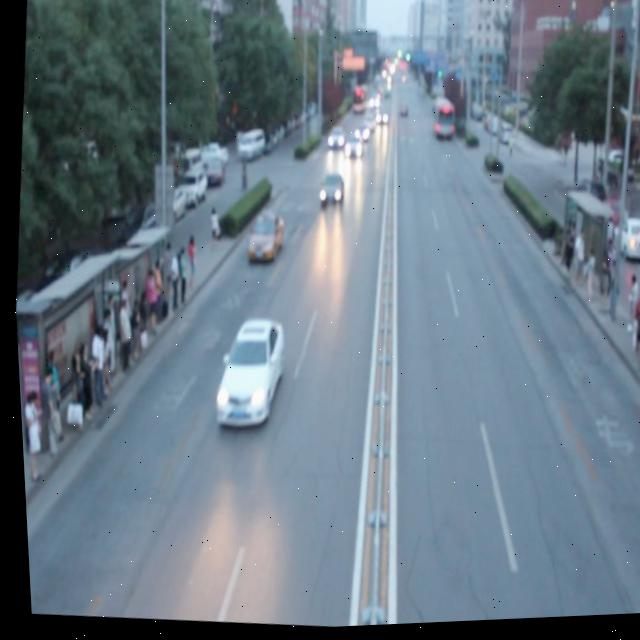car: (204, 315, 284, 435), (242, 207, 283, 266), (314, 171, 342, 210), (324, 124, 344, 151), (340, 136, 362, 160), (350, 125, 367, 145)
van: (426, 101, 455, 144)
